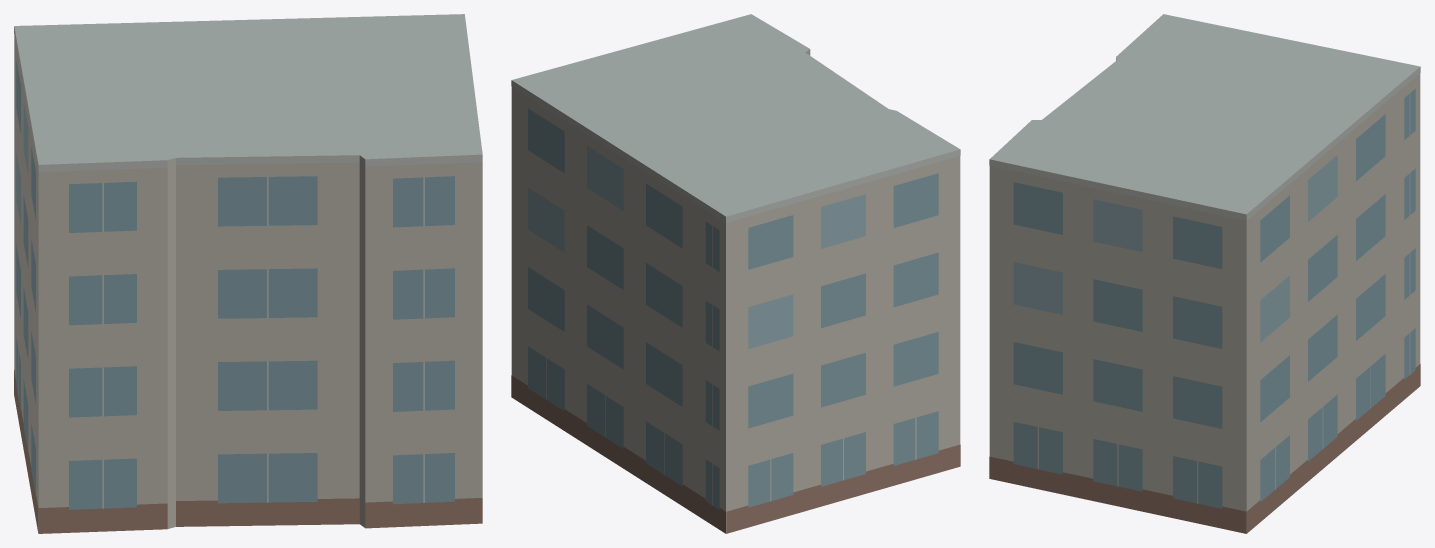
The model's file is survey-upis-33034268.glb.
3 views of the same model, side by side, from view 1: azimuth 30°, elevation 25°; view 2: azimuth 150°, elevation 25°; view 3: azimuth 270°, elevation 25° (orthographic). The views are drawn at different scales.
Visible parts, largest first — view 1: survey-upis-33034268.tmp; view 2: survey-upis-33034268.tmp; view 3: survey-upis-33034268.tmp.
Boxes of the visible parts, x1,y1,x2,y2 form: survey-upis-33034268.tmp: [14, 14, 482, 533]; survey-upis-33034268.tmp: [511, 14, 960, 533]; survey-upis-33034268.tmp: [989, 14, 1420, 533].
Bounding box in the file's own units: 16.42 × 12.2 × 14.93.
